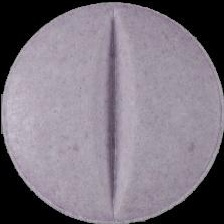67544-273: (0, 0, 224, 224)
